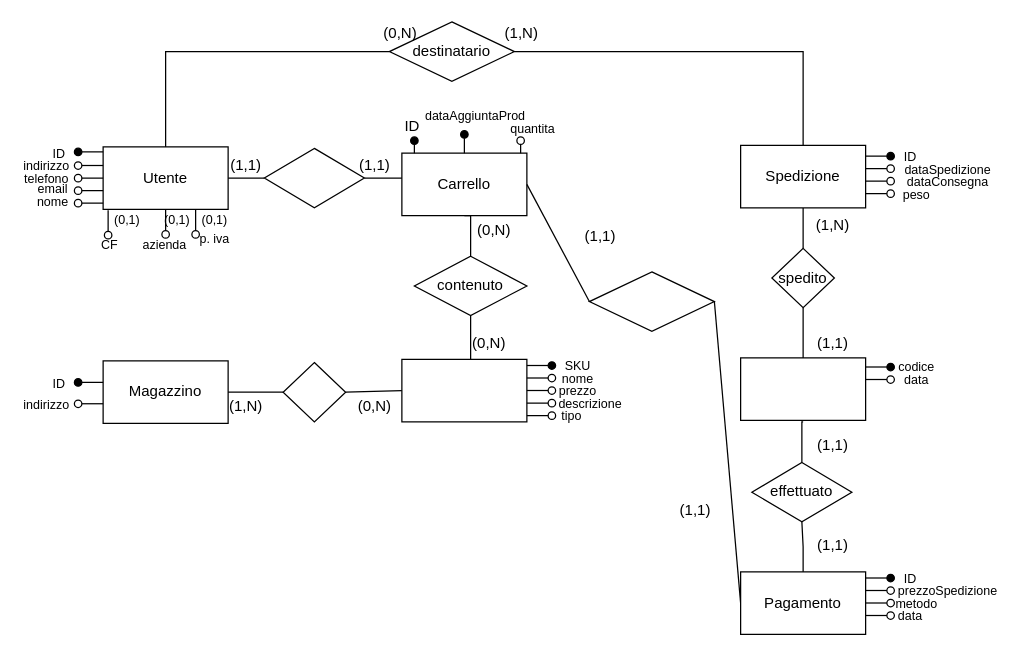
Some shapes in this 1019 by 656 pixel diagram are drawn without their labels. Each missing label, with the box of its shape:
Ordine: (739, 357, 866, 420)
posseduto: (263, 147, 364, 208)
procedimento: (588, 271, 714, 331)
Prodotto: (401, 358, 527, 422)
situato: (282, 361, 346, 422)
